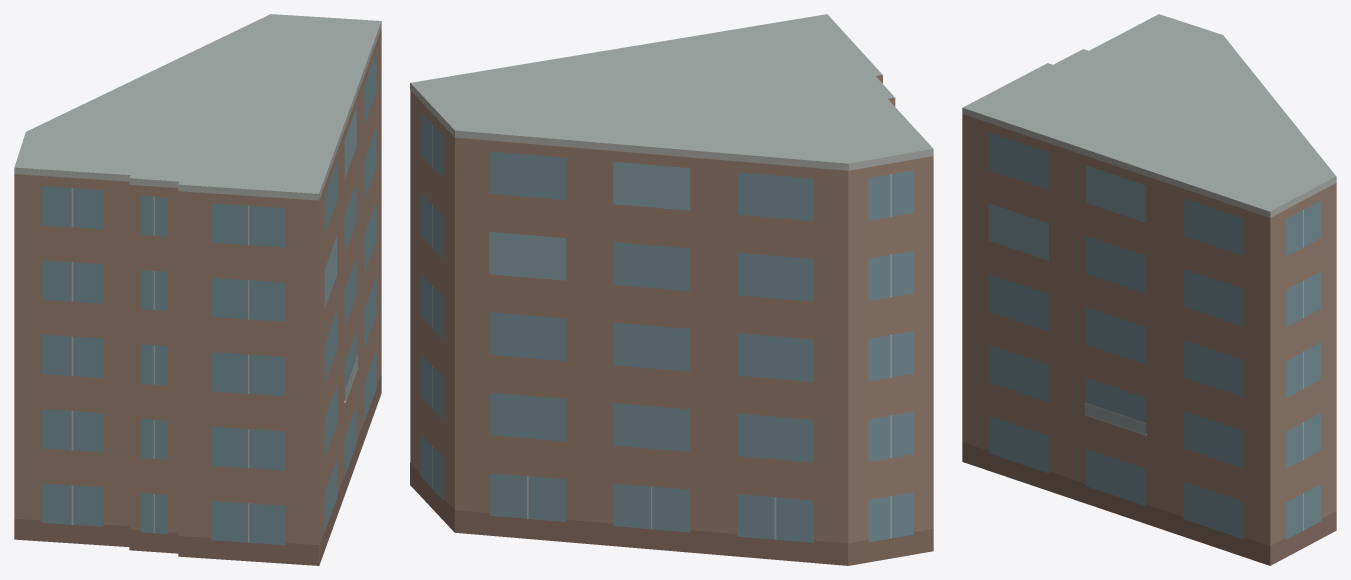
File: survey-upis-32536114.glb
3 views of the same model, side by side, from view 1: azimuth 30°, elevation 25°; view 2: azimuth 150°, elevation 25°; view 3: azimuth 270°, elevation 25° (orthographic). The views are drawn at different scales.
Parts seen in each view (by area): view 1: survey-upis-32536114.tmp; view 2: survey-upis-32536114.tmp; view 3: survey-upis-32536114.tmp.
Boxes of the visible parts, x1,y1,x2,y2 form: survey-upis-32536114.tmp: (14, 14, 381, 565); survey-upis-32536114.tmp: (410, 14, 933, 565); survey-upis-32536114.tmp: (962, 14, 1336, 565).
Size of the model in its own units: 16.54 by 13.8 by 13.22.
